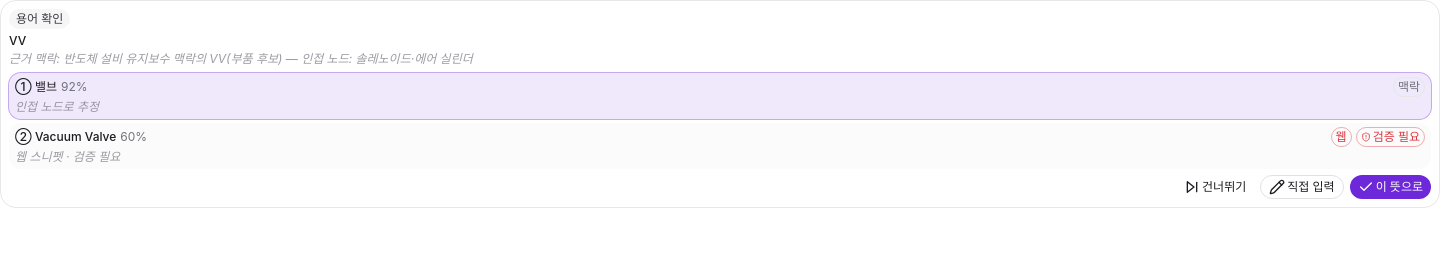
Test: TermConfirmCard (H8-e) › confirms the selected candidate with 이 뜻으로 and shows adoption guidance
Click the button "이 뜻으로" at coordinates (1390, 187), box 1350,175 -> 1431,199
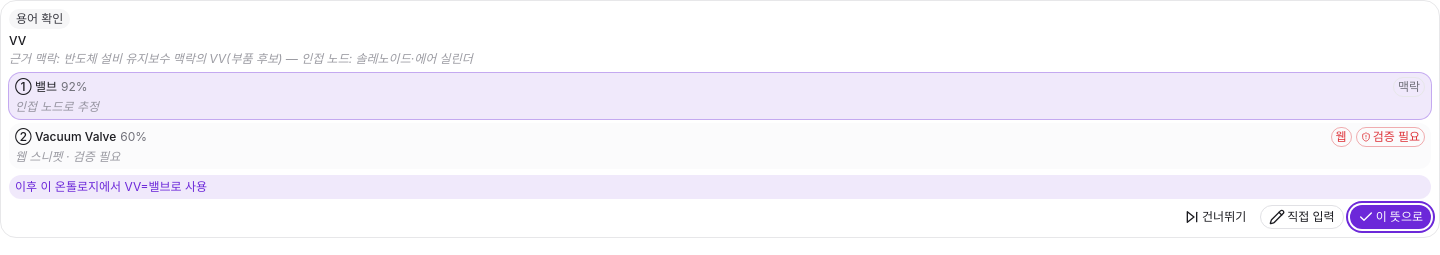
Expected: the text "이후 이 온톨로지에서 VV=밸브로 사용" is shown, 9,175 -> 1431,199
